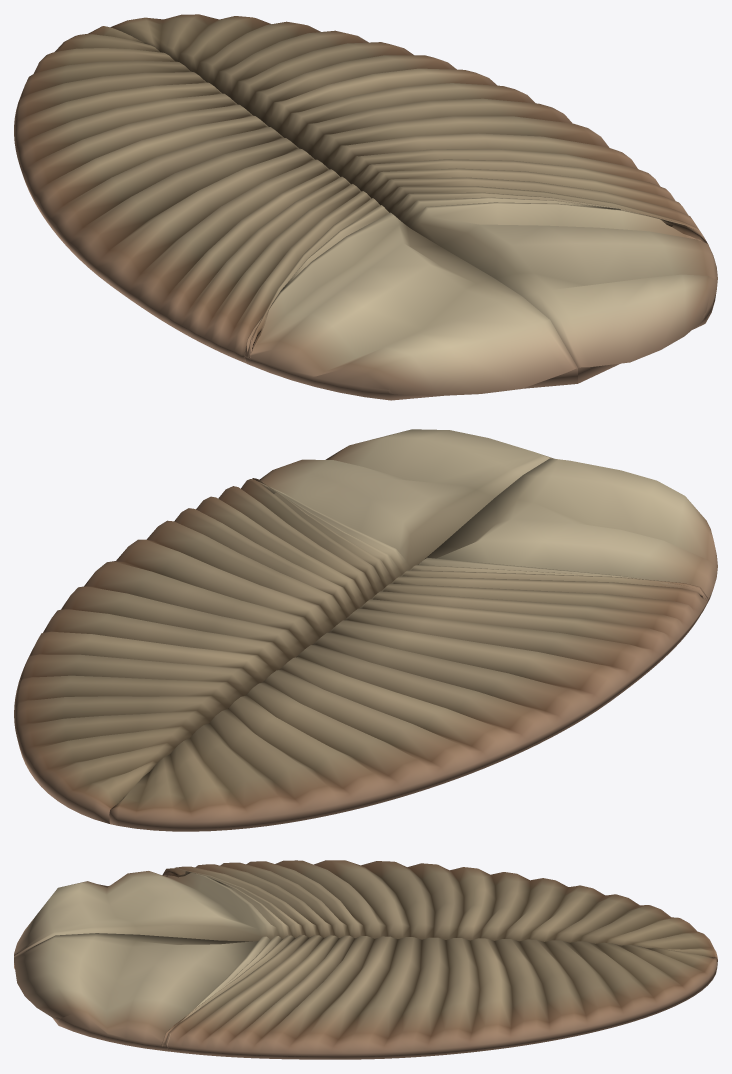
File: Andiva.fbx
The picture shows the model from 3 angles, top to bottom: view 1: azimuth 30°, elevation 25°; view 2: azimuth 150°, elevation 25°; view 3: azimuth 270°, elevation 25°; orthographic projection. The views are drawn at different scales.
Parts seen in each view (by area): view 1: Andiva; view 2: Andiva; view 3: Andiva.
Boxes of the visible parts, x1=… form: Andiva: x1=14, y1=14, x2=717, y2=400; Andiva: x1=14, y1=429, x2=717, y2=831; Andiva: x1=14, y1=860, x2=717, y2=1059.
Size of the model in its own units: 1 by 0.0978 by 1.6.
